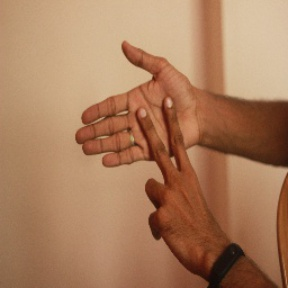N: (70, 42, 210, 221)
